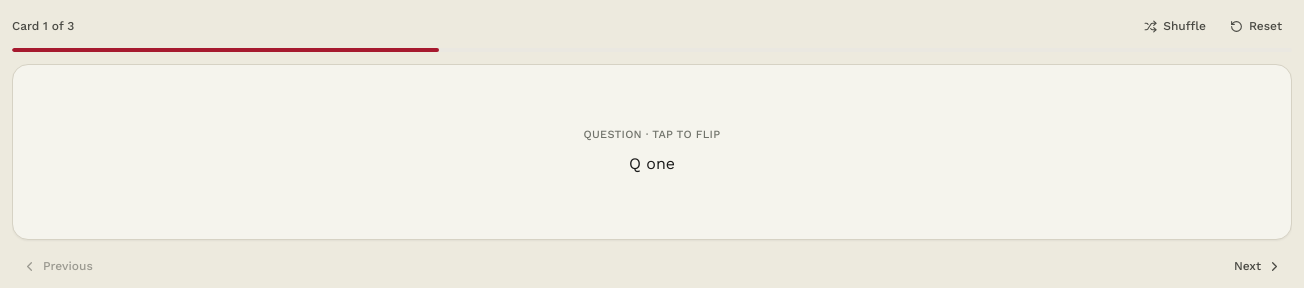
Test case: FlashcardViewer › flips between front and back on click
Click the button with aria-label "reveal answer".
click(652, 152)  # box [12,64,1292,240]
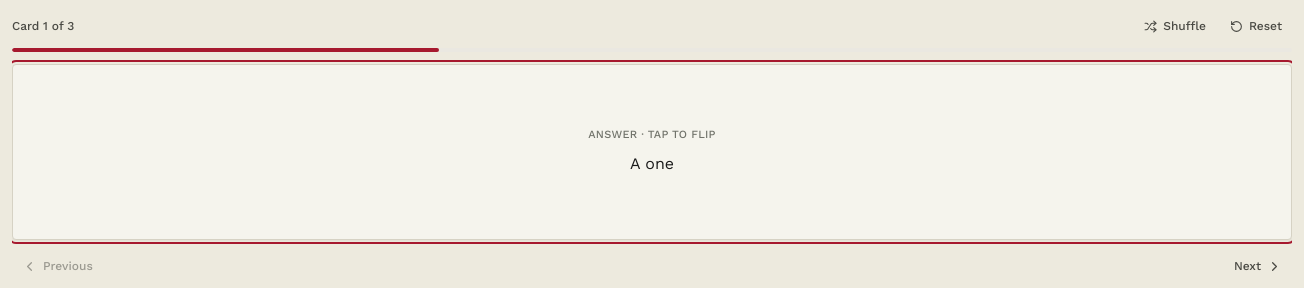
Expected: the text "A one" is shown, [630,154,674,173]
Click the button "Answer · tap to flip A one".
click(652, 152)  # box [12,64,1292,240]
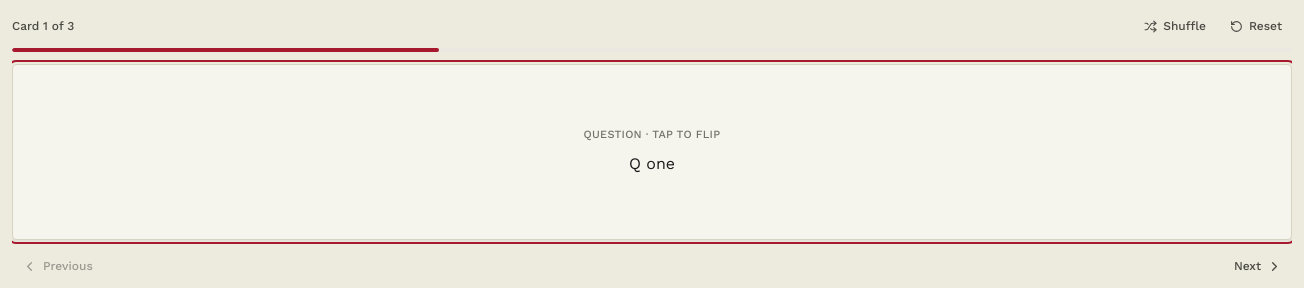
Expected: the text "Q one" is shown, [629,154,675,173]
